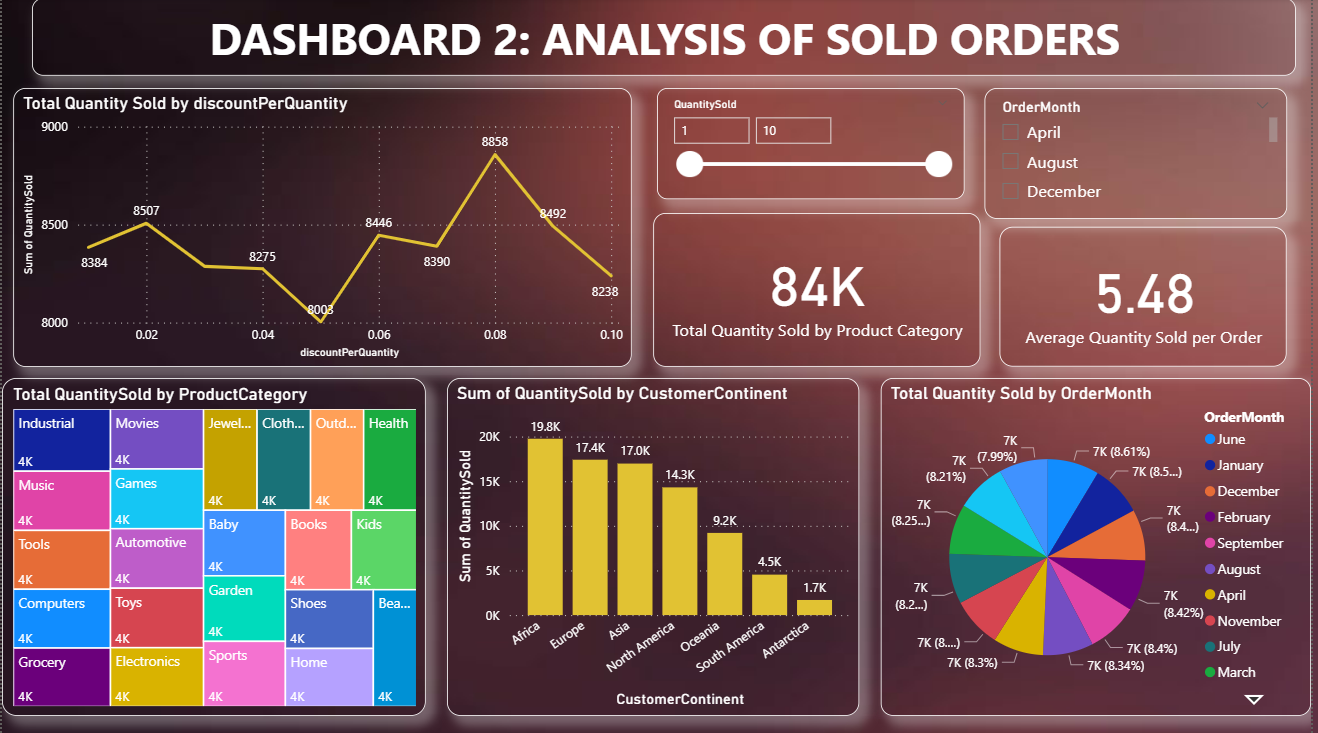

The page's visual inventory and layout, read from the dashboard file:
{"tool":"powerbi","page":{"name":"DASHBOARD 2: ANALYSIS OF SOLD ORDERS","canvas":[1280,720],"ordinal":1},"visuals":[{"type":"pieChart","title":"Total Quantity Sold by OrderMonth","fields":{"Category":["E-Commerce Dataset.OrderMonth"],"Y":["Sum(E-Commerce Dataset.QuantitySold)"]},"box":[859.4,371.6,420.5,330.1],"z":0},{"type":"clusteredColumnChart","fields":{"Y":["Sum(E-Commerce Dataset.QuantitySold)"],"Category":["E-Commerce Dataset.CustomerContinent"]},"box":[435.2,371.6,403.4,330.1],"z":1000},{"type":"treemap","title":"Total QuantitySold by ProductCategory","fields":{"Group":["E-Commerce Dataset.ProductCategory"],"Values":["Sum(E-Commerce Dataset.QuantitySold)"]},"box":[0,371.6,414.4,330.1],"z":2000},{"type":"lineChart","title":"Total Quantity Sold by discountPerQuantity","fields":{"Y":["Sum(E-Commerce Dataset.QuantitySold)"],"Category":["E-Commerce Dataset.discountPerQuantity"]},"box":[11,88,605.1,272.6],"z":3000},{"type":"card","fields":{"Values":["E-Commerce Dataset.Total Quantity Sold by Product Category"]},"box":[636.9,210.3,320.3,150.4],"z":4000},{"type":"card","fields":{"Values":["E-Commerce Dataset.Average Quantity Sold per Order"]},"box":[975.5,223.7,281.2,136.9],"z":5000},{"type":"slicer","fields":{"Values":["E-Commerce Dataset.QuantitySold"]},"box":[640.5,88,300.7,108.8],"z":6000},{"type":"slicer","fields":{"Values":["E-Commerce Dataset.OrderMonth"]},"box":[960.8,88,295.8,128.4],"z":7000},{"type":"textbox","box":[29.3,0,1235.9,75.8],"z":8000}]}

Visuals, with their boxes in screenshot pixels (x1, y1, x2, y2), scaled from the page's 1280x720 canvas onto the 1318x733 screenshot:
"Total Quantity Sold by OrderMonth" pieChart: x1=885 y1=378 x2=1317 y2=714
clusteredColumnChart - Sum(E-Commerce Dataset.QuantitySold) x E-Commerce Dataset.CustomerContinent: x1=448 y1=378 x2=863 y2=714
"Total QuantitySold by ProductCategory" treemap: x1=0 y1=378 x2=427 y2=714
"Total Quantity Sold by discountPerQuantity" lineChart: x1=11 y1=90 x2=634 y2=367
card - E-Commerce Dataset.Total Quantity Sold by Product Category: x1=656 y1=214 x2=986 y2=367
card - E-Commerce Dataset.Average Quantity Sold per Order: x1=1004 y1=228 x2=1294 y2=367
slicer - E-Commerce Dataset.QuantitySold: x1=660 y1=90 x2=969 y2=200
slicer - E-Commerce Dataset.OrderMonth: x1=989 y1=90 x2=1294 y2=220
textbox: x1=30 y1=0 x2=1303 y2=77
